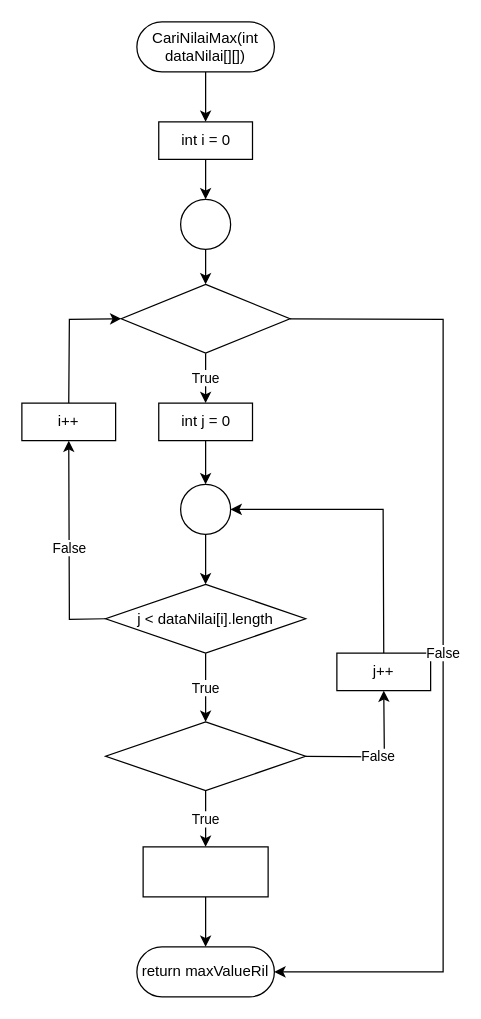
The diagram is 481 pixels wide and 1019 high, and some of its shapes have lost their labels. The shapes that lost their labels are listed below. From the top down, each one's centre as x and y in pixels, then its label:
(x=205, y=318): i < dataNilai.length
(x=205, y=756): nilai[i][j] == maxValue
(x=205, y=871): maxValueRil = nilai[i][j]
